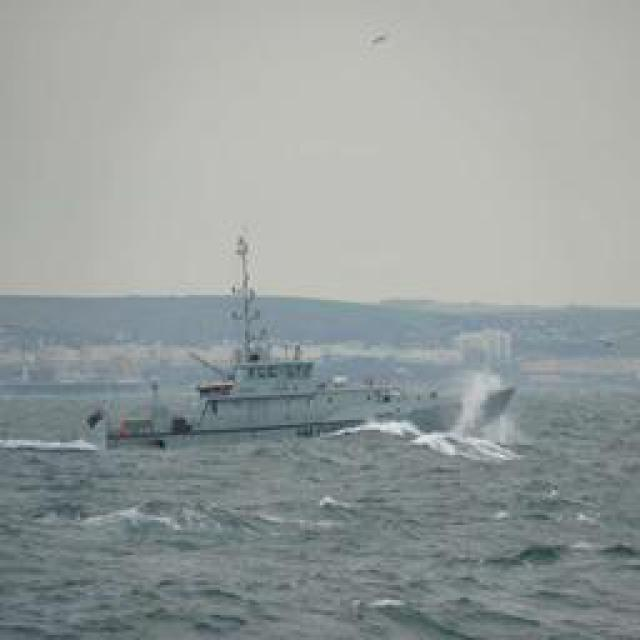Ship: (88, 230, 522, 468)
